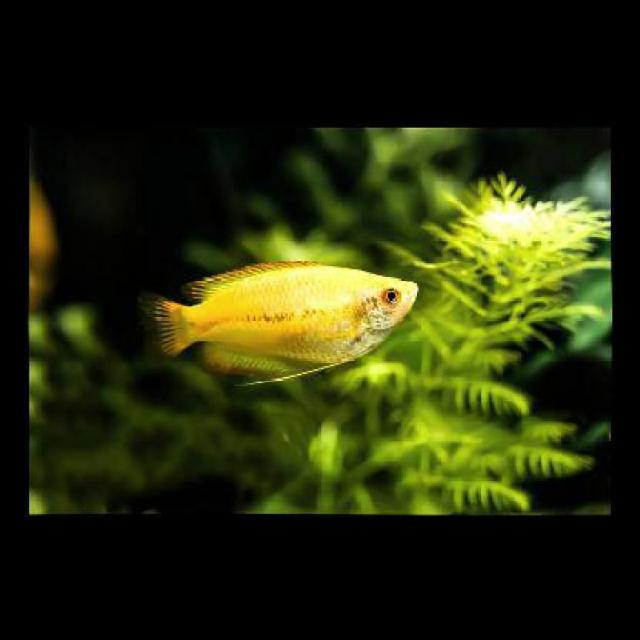Gourami: (144, 254, 422, 377)
